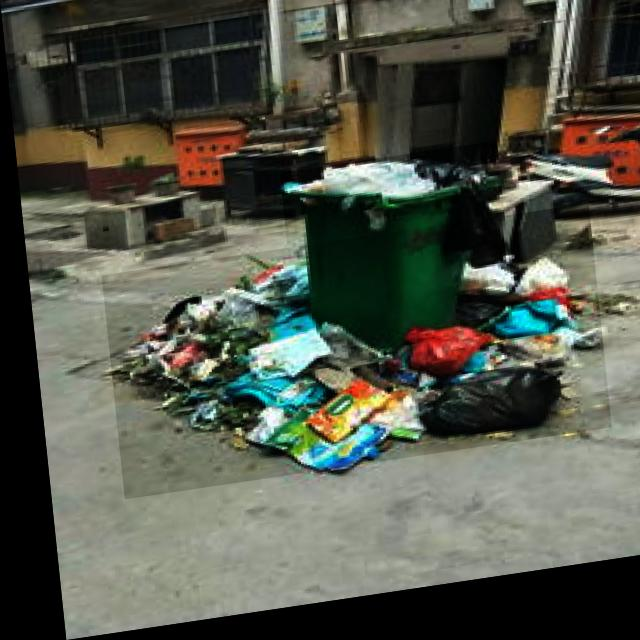garbage: (95, 221, 600, 501)
overflow: (275, 155, 508, 369)
